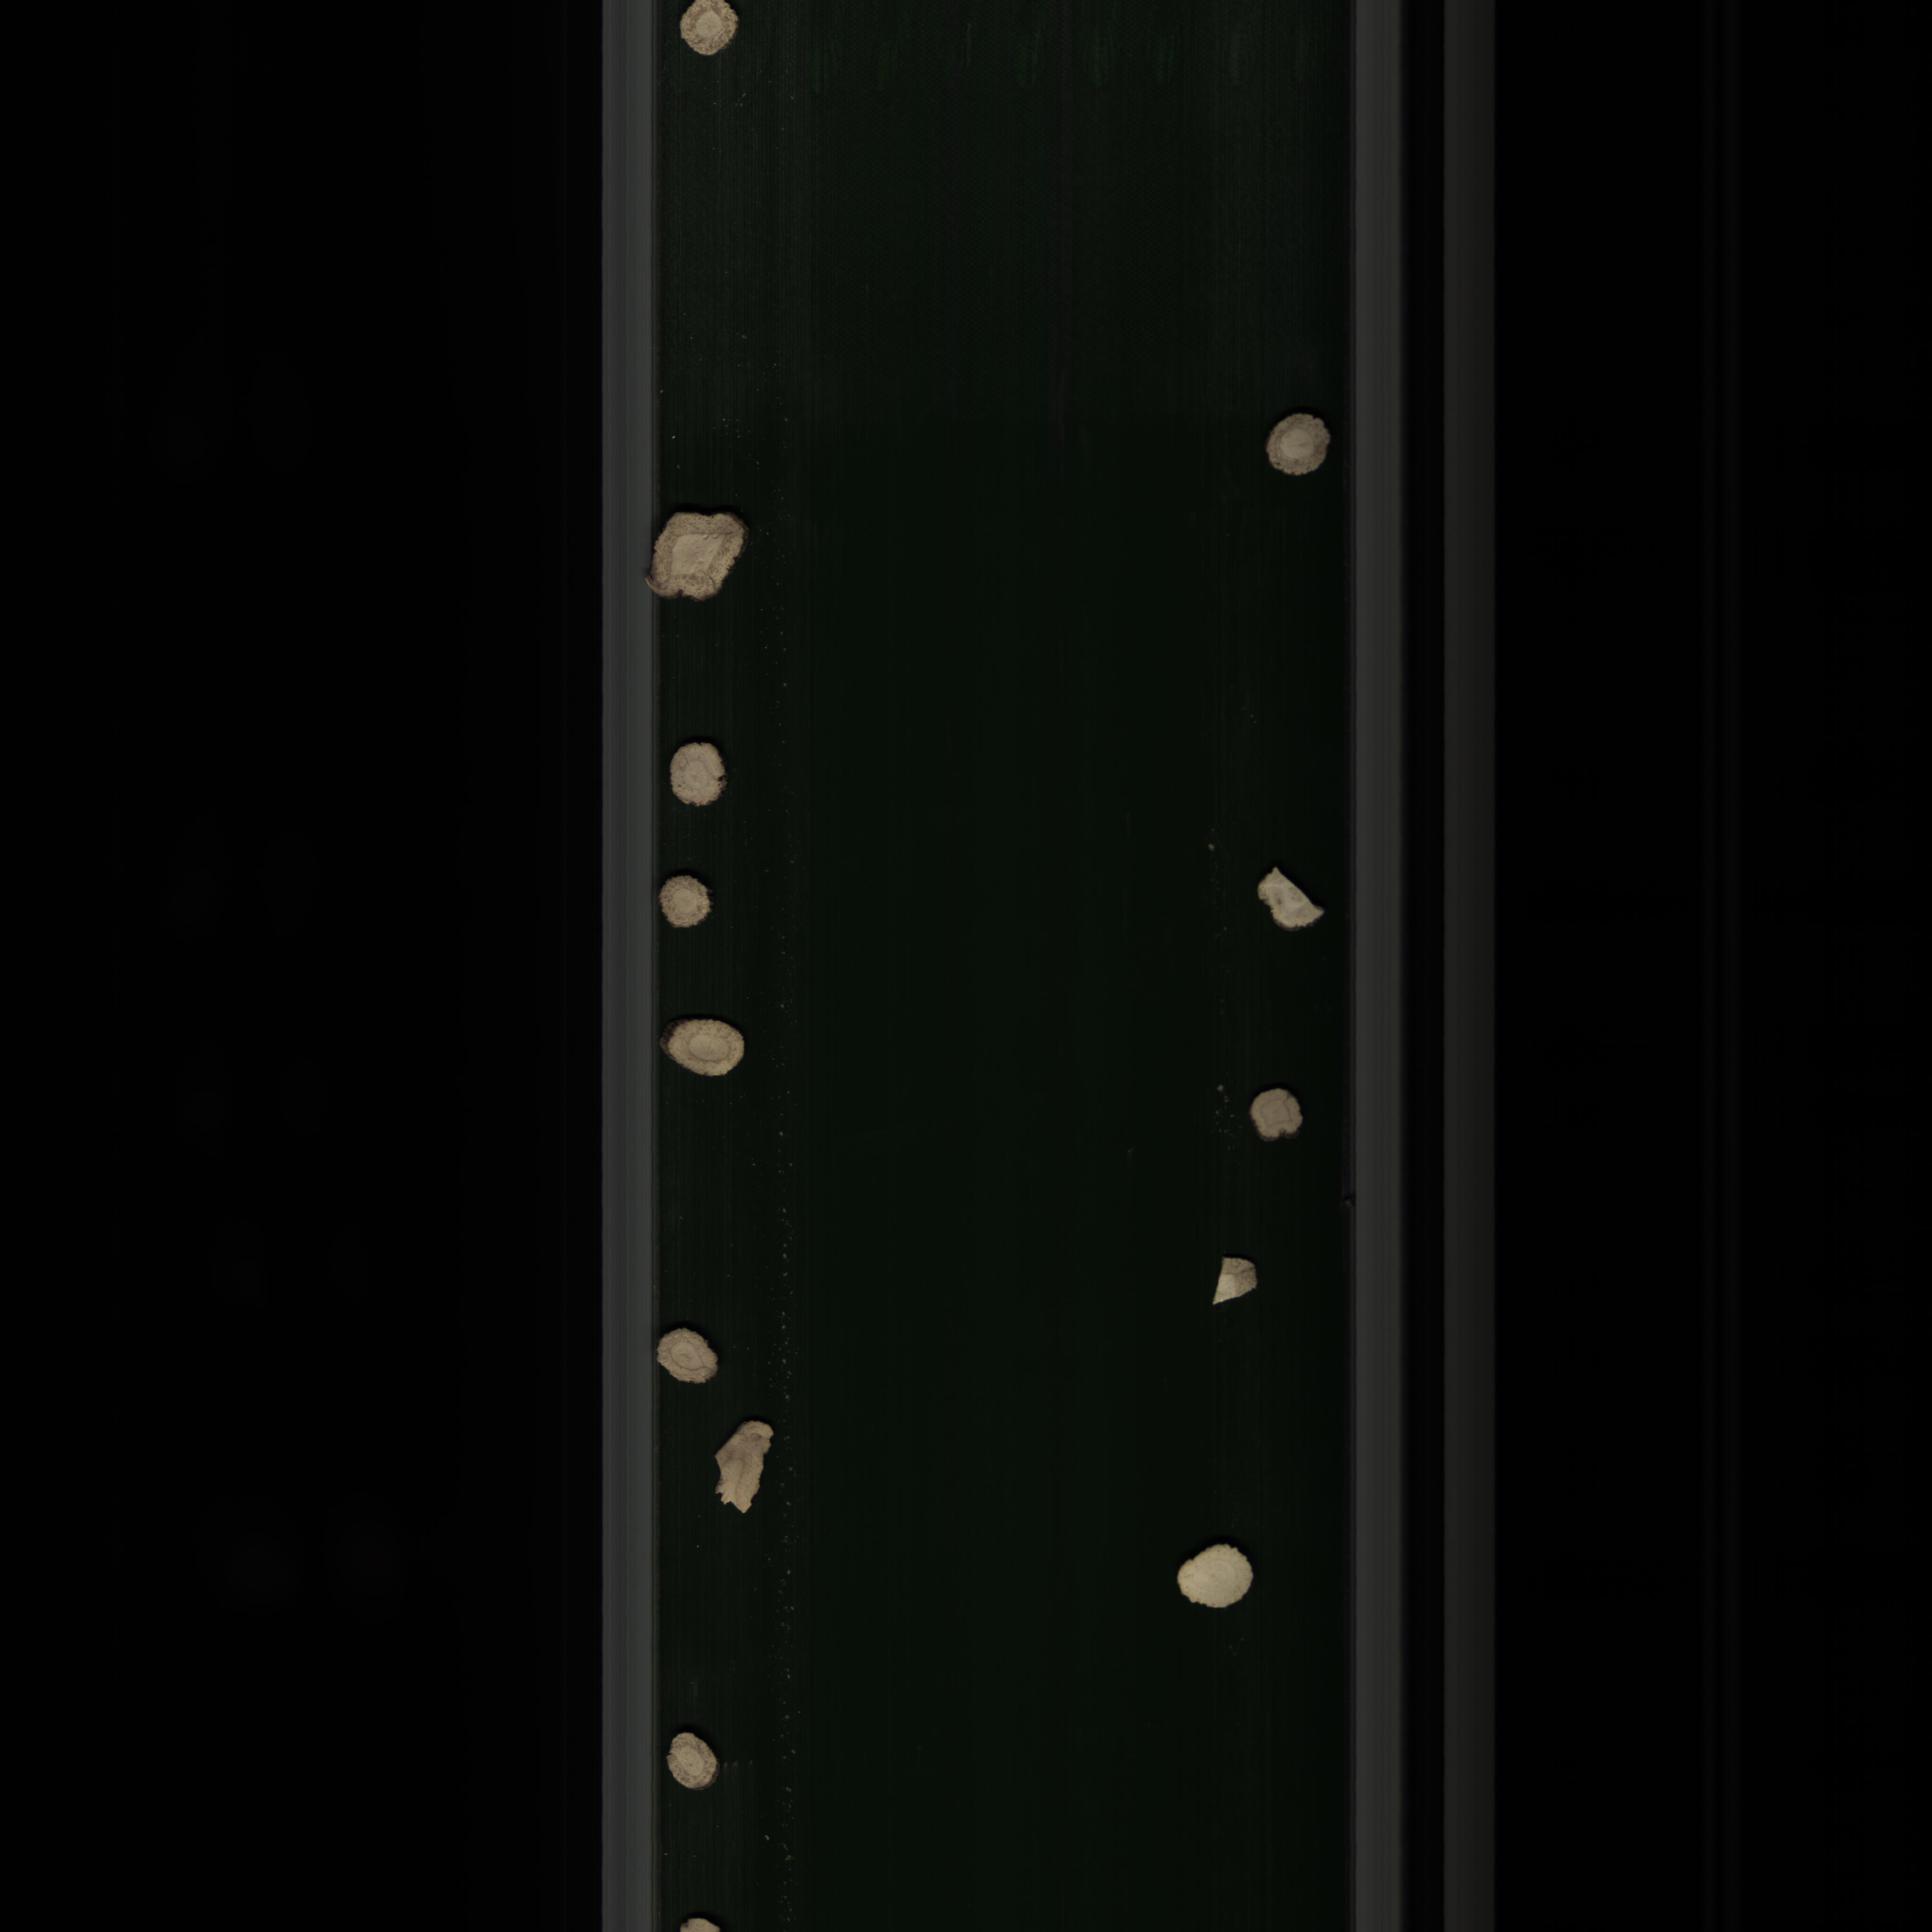debris: (706, 1410, 786, 1518), (1242, 865, 1334, 941), (1201, 1247, 1267, 1316)
distortion: (635, 506, 754, 607)
